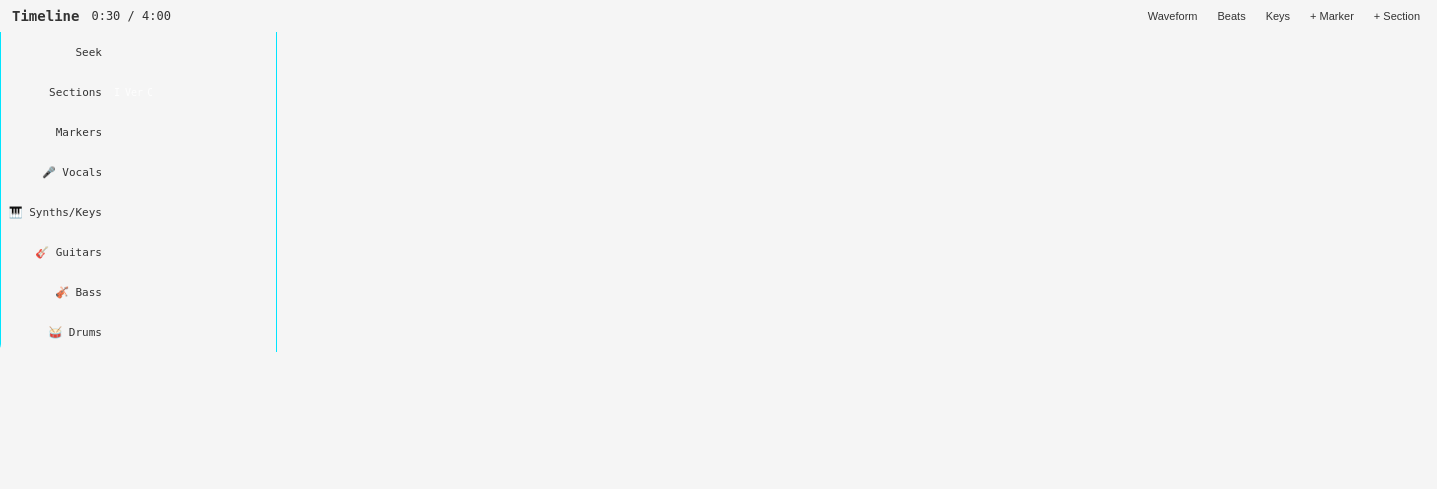
it: AuditTimeline › lane toggles › starts with lanes hidden by default and toggles them on button click
The width and height of the screenshot is (1437, 489).
Check: the text "Energy" is not shown
Check: the text "Beat Grid" is not shown
Note: Toggle waveform
Click the button titled "Toggle Energy waveform lane" at (1173, 16), box [1140,8,1206,24]
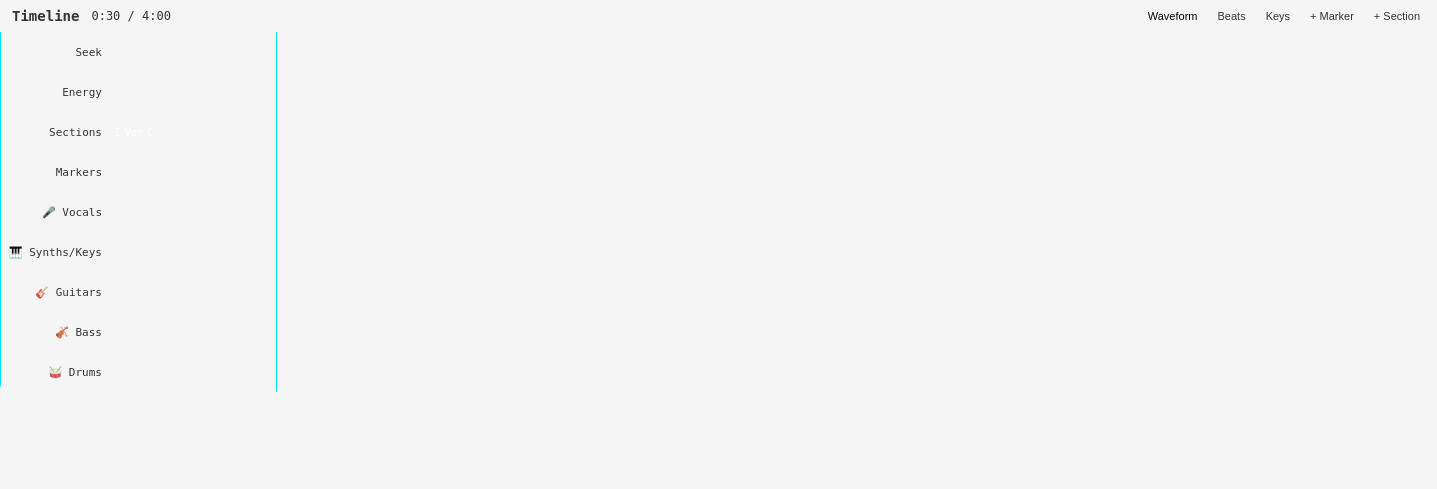
Check: the text "Energy" is shown, box [62,86,102,98]
Note: Toggle beats
Click the button titled "Toggle vertical beat grid lines" at (1232, 16), box [1210,8,1254,24]
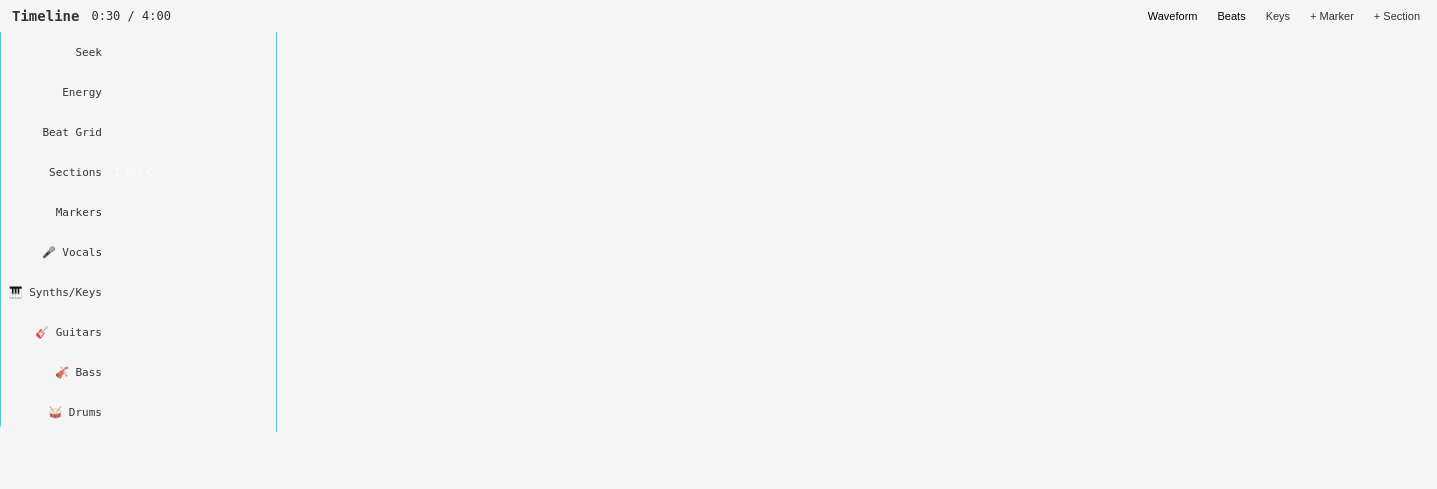
Check: the text "Beat Grid" is shown, box [42,126,102,138]
Note: Toggle keys
Click the button titled "Toggle Key regions lane" at (1278, 16), box [1258,8,1298,24]
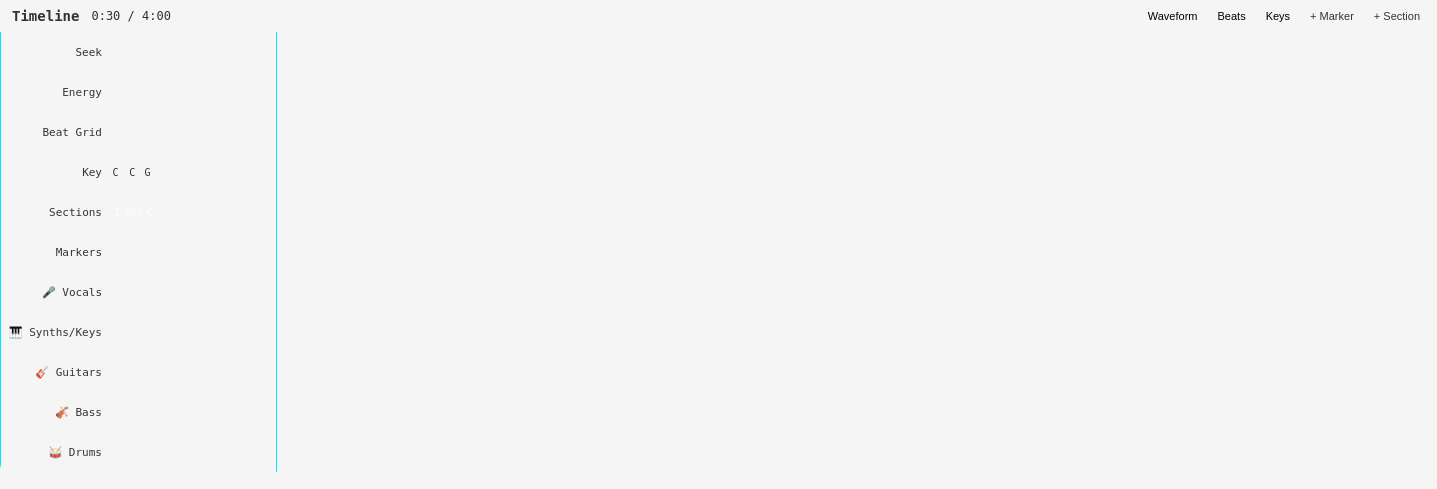
Check: the text "Key" is shown, box [82,166,102,178]
